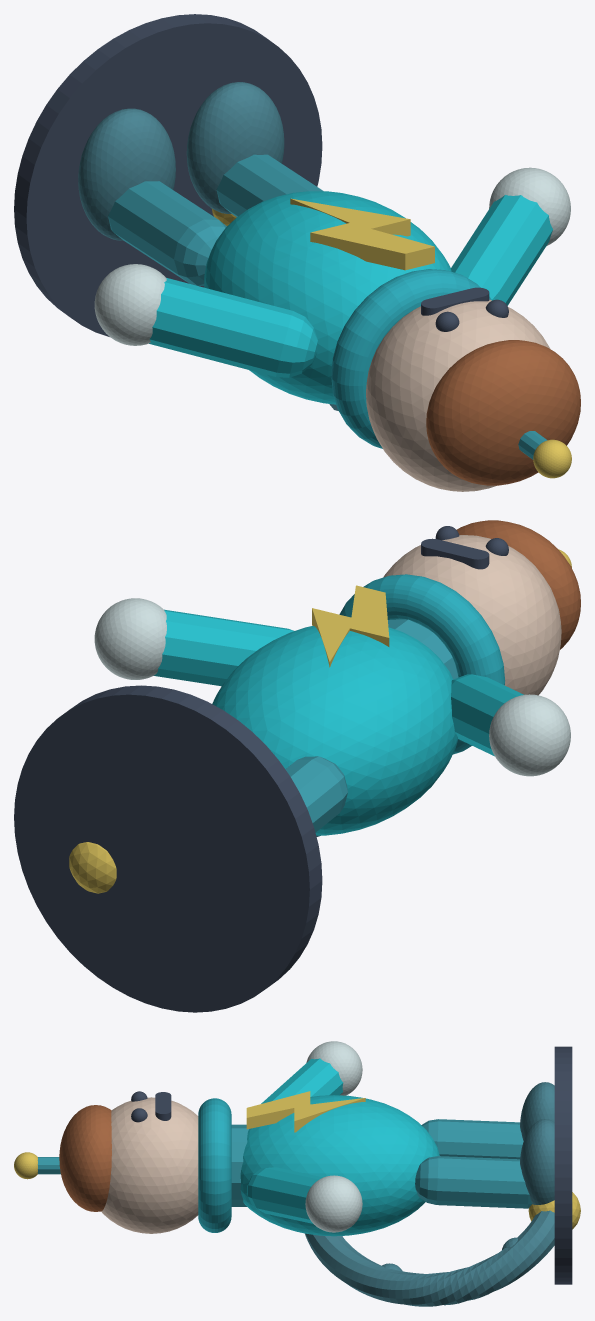
Rendered from neuronaut3d-axon.glb.
The picture shows the model from 3 angles, top to bottom: view 1: azimuth 30°, elevation 25°; view 2: azimuth 150°, elevation 25°; view 3: azimuth 270°, elevation 25°; orthographic projection. The views are drawn at different scales.
Parts seen in each view (by area): view 1: geometry_0, geometry_5, geometry_13, geometry_12, geometry_6, geometry_11, geometry_2, geometry_4, geometry_1, geometry_8, geometry_17, geometry_7 (+4 smaller); view 2: geometry_0, geometry_5, geometry_12, geometry_11, geometry_8, geometry_7, geometry_9, geometry_13, geometry_6, geometry_17, geometry_1, geometry_22 (+2 smaller); view 3: geometry_5, geometry_12, geometry_18, geometry_3, geometry_13, geometry_0, geometry_11, geometry_1, geometry_8, geometry_9, geometry_4, geometry_17 (+8 smaller).
Part boxes in pixels (x1=…): geometry_0: x1=14, y1=14, x2=322, y2=336; geometry_5: x1=204, y1=191, x2=451, y2=404; geometry_13: x1=426, y1=340, x2=580, y2=485; geometry_12: x1=366, y1=299, x2=550, y2=491; geometry_6: x1=149, y1=277, x2=317, y2=377; geometry_11: x1=331, y1=269, x2=491, y2=448; geometry_2: x1=78, y1=108, x2=175, y2=240; geometry_4: x1=186, y1=82, x2=284, y2=213; geometry_1: x1=108, y1=181, x2=226, y2=285; geometry_8: x1=451, y1=195, x2=552, y2=305; geometry_17: x1=290, y1=198, x2=434, y2=270; geometry_7: x1=94, y1=264, x2=166, y2=345; geometry_0: x1=14, y1=685, x2=322, y2=1012; geometry_5: x1=212, y1=626, x2=458, y2=835; geometry_12: x1=383, y1=535, x2=561, y2=695; geometry_11: x1=339, y1=574, x2=505, y2=754; geometry_8: x1=154, y1=609, x2=293, y2=686; geometry_7: x1=489, y1=694, x2=570, y2=776; geometry_9: x1=94, y1=598, x2=166, y2=679; geometry_13: x1=456, y1=520, x2=580, y2=649; geometry_6: x1=451, y1=674, x2=523, y2=756; geometry_17: x1=312, y1=585, x2=389, y2=667; geometry_1: x1=285, y1=756, x2=347, y2=832; geometry_22: x1=69, y1=842, x2=116, y2=893; geometry_5: x1=240, y1=1095, x2=439, y2=1236; geometry_12: x1=101, y1=1097, x2=198, y2=1233; geometry_18: x1=304, y1=1210, x2=554, y2=1306; geometry_3: x1=415, y1=1156, x2=532, y2=1208; geometry_13: x1=59, y1=1105, x2=111, y2=1211; geometry_0: x1=554, y1=1046, x2=572, y2=1284; geometry_11: x1=198, y1=1098, x2=231, y2=1232; geometry_1: x1=421, y1=1119, x2=523, y2=1159; geometry_8: x1=247, y1=1167, x2=322, y2=1223; geometry_9: x1=305, y1=1175, x2=362, y2=1232; geometry_4: x1=520, y1=1119, x2=554, y2=1204; geometry_17: x1=246, y1=1091, x2=365, y2=1132.
Size of the model in its own units: 47.2 by 30 by 71.4.
